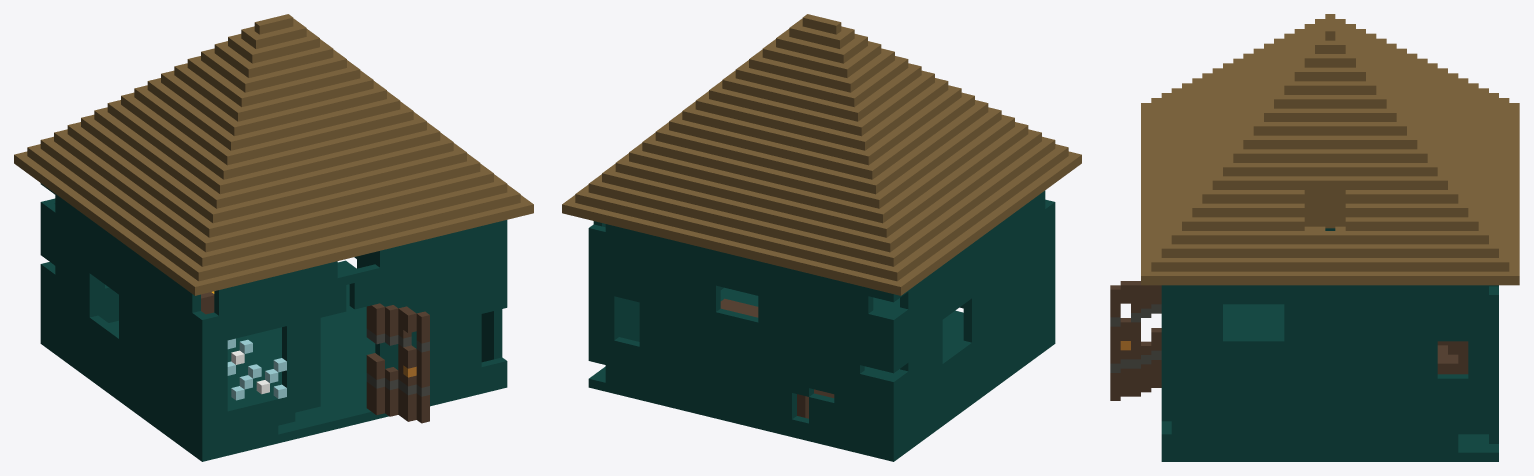
File: casinhaV2 project.obj
3 views of the same model, side by side, from view 1: azimuth 30°, elevation 25°; view 2: azimuth 150°, elevation 25°; view 3: azimuth 270°, elevation 25° (orthographic). The views are drawn at different scales.
Size of the model in its own units: 4 by 3.9 by 4.
1 material, 1 textured.
